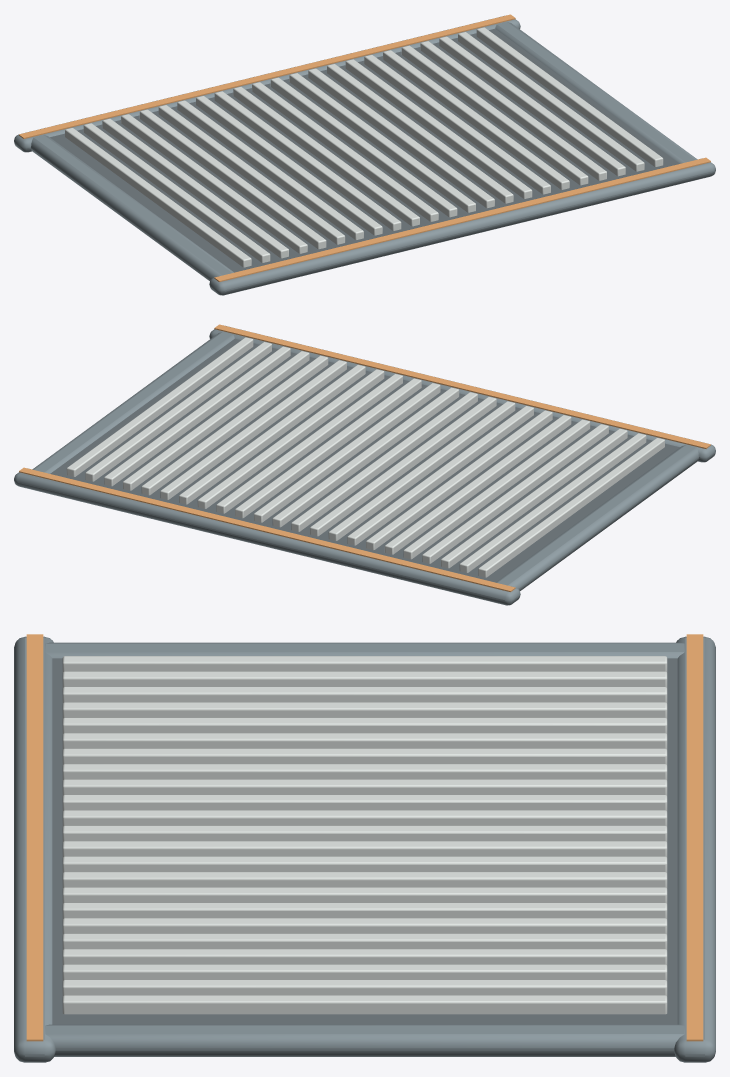
Rendered from dust_grate.glb.
The picture shows the model from 3 angles, top to bottom: view 1: azimuth 30°, elevation 25°; view 2: azimuth 150°, elevation 25°; view 3: azimuth 270°, elevation 25°; orthographic projection. The views are drawn at different scales.
Parts seen in each view (by area): view 1: bars_satin_steel, tray_graphite, ramps_dark_alloy, edge_marks_orange; view 2: bars_satin_steel, tray_graphite, ramps_dark_alloy, edge_marks_orange; view 3: bars_satin_steel, ramps_dark_alloy, tray_graphite, edge_marks_orange.
Boxes of the visible parts, bbox=[...] form: bars_satin_steel: bbox=[65, 27, 663, 267]; tray_graphite: bbox=[50, 28, 679, 272]; ramps_dark_alloy: bbox=[14, 15, 715, 295]; edge_marks_orange: bbox=[19, 14, 710, 281]; bars_satin_steel: bbox=[66, 337, 664, 577]; tray_graphite: bbox=[50, 338, 679, 582]; ramps_dark_alloy: bbox=[14, 325, 715, 605]; edge_marks_orange: bbox=[19, 324, 710, 591]; bars_satin_steel: bbox=[62, 656, 667, 1014]; ramps_dark_alloy: bbox=[14, 636, 715, 1062]; tray_graphite: bbox=[52, 658, 677, 1024]; edge_marks_orange: bbox=[26, 634, 703, 1041].
Size of the model in its own units: 1.4 by 0.05 by 1.01.
